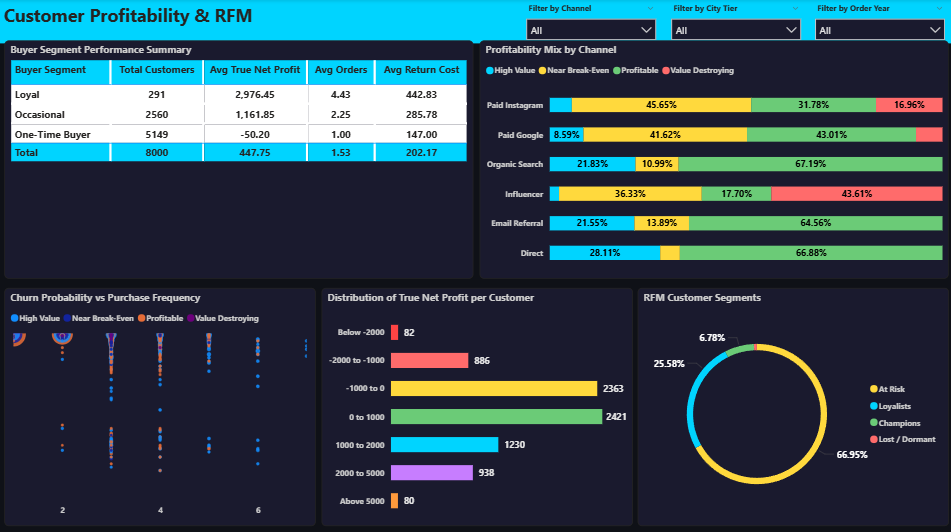

Layout of this report page (visuals, bound fields, positions):
{"tool":"powerbi","page":{"name":"Customer Profitability","canvas":[1280,720],"ordinal":3},"visuals":[{"type":"textbox","box":[0,0,1279.4,60],"z":0},{"type":"tableEx","title":"Buyer Segment Performance Summary","fields":{"Values":["customer_profitability.buyer_segment","customer_profitability.customer_id","Avg(customer_profitability.true_net_profit)","Avg(customer_profitability.total_orders)","Avg(customer_profitability.total_return_cost)"]},"box":[6,55.6,629.9,320.2],"z":1000},{"type":"scatterChart","title":"Churn Probability vs Purchase Frequency","fields":{"X":["churn_scores.total_orders"],"Y":["churn_scores.churn_probability_clean"],"Size":["Sum(churn_scores.total_revenue)"],"Series":["churn_scores.profit_segment"]},"box":[6,387.9,418,320.2],"z":2000},{"type":"donutChart","title":"RFM Customer Segments","fields":{"Category":["rfm_segments.segment"],"Y":["Count(rfm_segments.customer_id)"]},"box":[857,387.9,418,320.2],"z":3000},{"type":"clusteredBarChart","title":"Distribution of True Net Profit per Customer","fields":{"Category":["customer_profitability.profit_bin"],"Y":["CountNonNull(customer_profitability.customer_id)"]},"box":[431.5,387.9,418,320.2],"z":4000},{"type":"hundredPercentStackedBarChart","title":"Profitability Mix by Channel","fields":{"Category":["customer_profitability.acquisition_channel"],"Y":["Count(customer_profitability.customer_id)"],"Series":["customer_profitability.profit_segment"]},"box":[645,55.6,629.9,320.2],"z":5000},{"type":"slicer","fields":{"Values":["dim_channel.Channel"]},"box":[697.6,0,193.9,58.6],"z":6000},{"type":"slicer","fields":{"Values":["dim_date.Year"]},"box":[1085.5,0,193.9,57.1],"z":7000},{"type":"slicer","fields":{"Values":["dim_customers.city_tier"]},"box":[891.5,0,193.9,58.6],"z":8000}]}

Visuals, with their boxes in screenshot pixels (x1, y1, x2, y2), scaled from the page's 1280x720 canvas onto the 951x532 screenshot:
textbox: (left=0, top=0, right=950, bottom=44)
"Buyer Segment Performance Summary" tableEx: (left=4, top=41, right=472, bottom=278)
"Churn Probability vs Purchase Frequency" scatterChart: (left=4, top=287, right=315, bottom=523)
"RFM Customer Segments" donutChart: (left=637, top=287, right=947, bottom=523)
"Distribution of True Net Profit per Customer" clusteredBarChart: (left=321, top=287, right=631, bottom=523)
"Profitability Mix by Channel" hundredPercentStackedBarChart: (left=479, top=41, right=947, bottom=278)
slicer - dim_channel.Channel: (left=518, top=0, right=662, bottom=43)
slicer - dim_date.Year: (left=806, top=0, right=950, bottom=42)
slicer - dim_customers.city_tier: (left=662, top=0, right=806, bottom=43)
